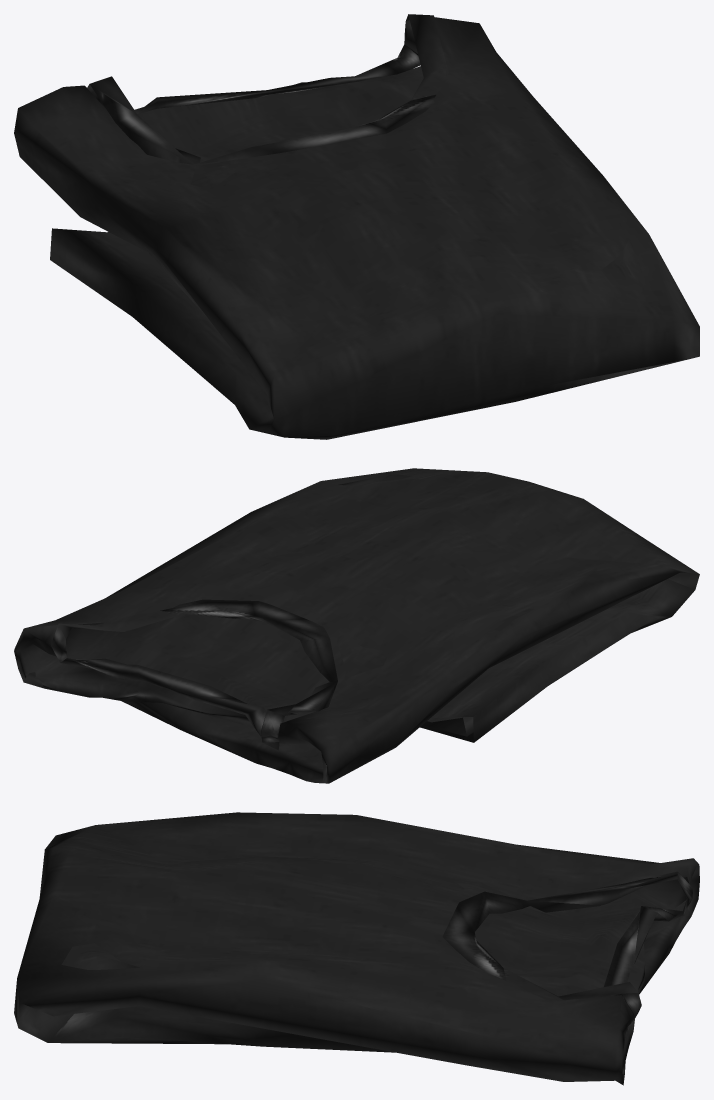
Rendered from hvfold_cloth4551.glb.
The picture shows the model from 3 angles, top to bottom: view 1: azimuth 30°, elevation 25°; view 2: azimuth 150°, elevation 25°; view 3: azimuth 270°, elevation 25°; orthographic projection. The views are drawn at different scales.
Visible parts, largest first — view 1: BP_cloth4551; view 2: BP_cloth4551; view 3: BP_cloth4551.
Boxes of the visible parts, x1,y1,x2,y2 form: BP_cloth4551: (14, 14, 699, 439); BP_cloth4551: (14, 468, 699, 783); BP_cloth4551: (14, 812, 699, 1085).
Bounding box in the file's own units: 0.2705 × 0.0525 × 0.3371.
1 material, 1 textured.
